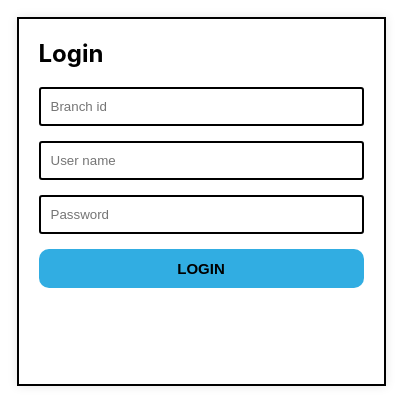
it: Login Component › displays an error message on invalid branch id attempt
In the field with placeholder "Branch id": (201, 107) [38,87,364,126], type "10005"
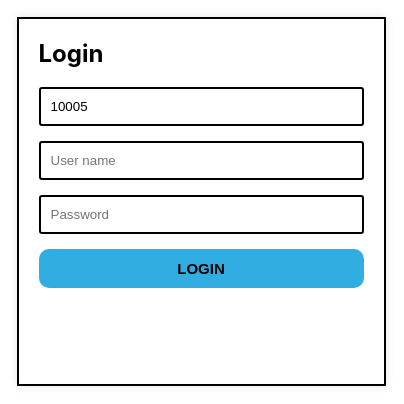
In the field with placeholder "User name": (201, 161) [38,141,364,180], type "invaliduser"
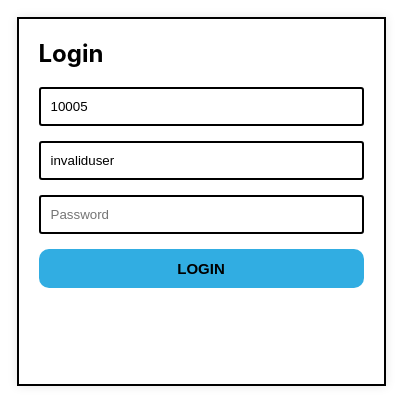
In the password field with placeholder "Password": (201, 215) [38,195,364,234], type "invalidpassword"
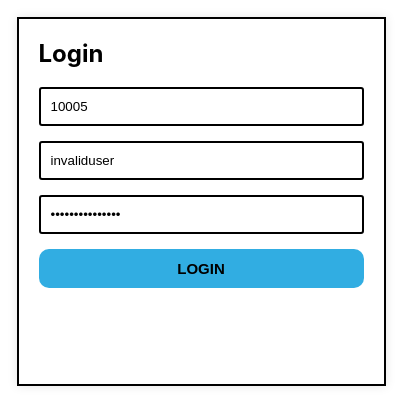
Click the button "Login": (201, 269) [38,249,364,288]
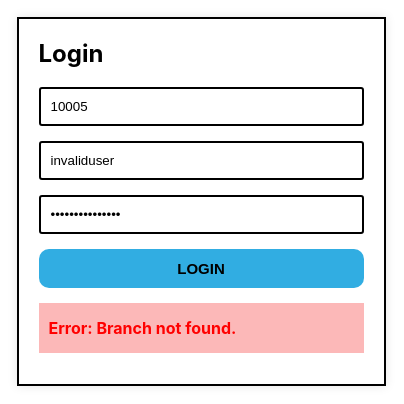
Expected: the text "Error: Branch not found." is shown, [38,303,364,353]
